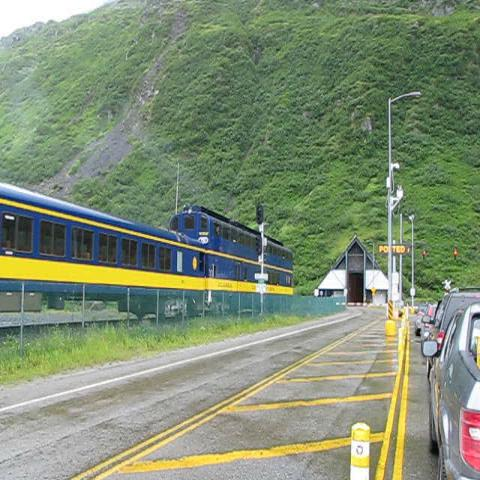car: (423, 302, 479, 475), (420, 286, 479, 339), (414, 306, 427, 336)
